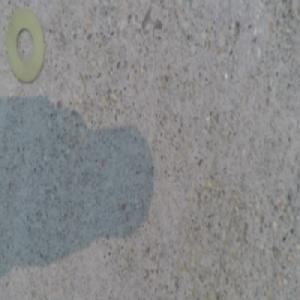Washer: (7, 10, 45, 81)
